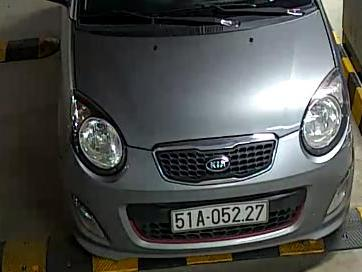number: (173, 200, 269, 232)
